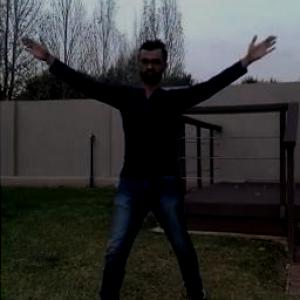takeoff: (40, 39, 293, 299)
